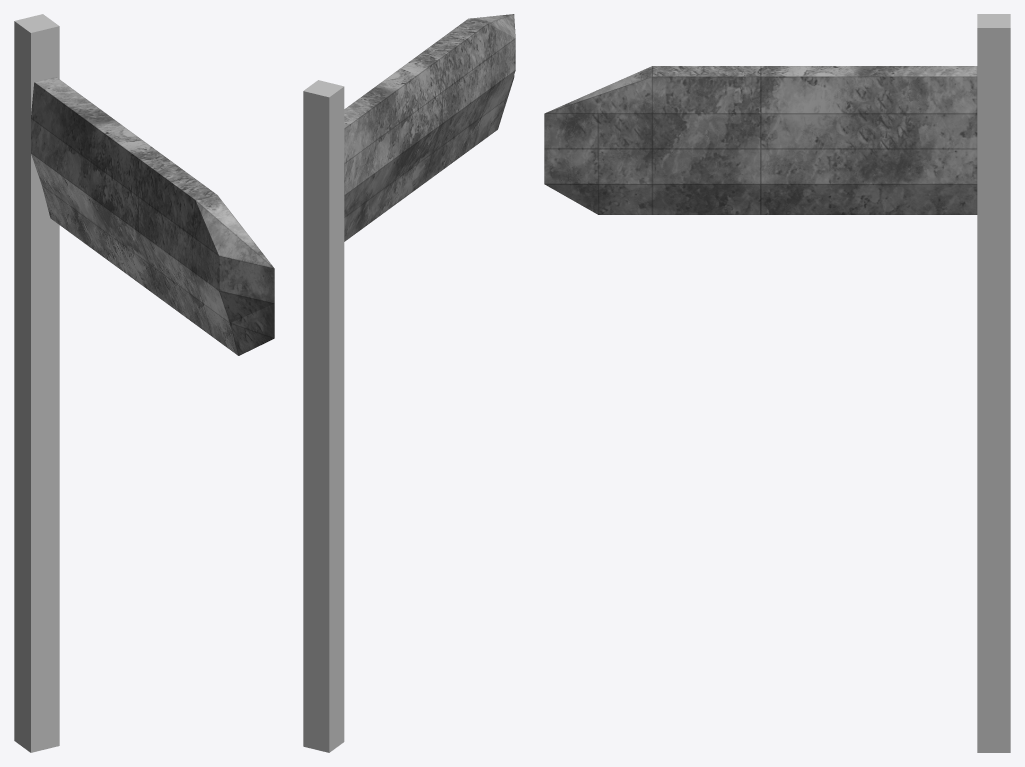
The model's file is hammer.obj.
3 views of the same model, side by side, from view 1: azimuth 30°, elevation 25°; view 2: azimuth 150°, elevation 25°; view 3: azimuth 270°, elevation 25° (orthographic). The views are drawn at different scales.
Visible parts, largest first — view 1: 立方体, Cube; view 2: Cube, 立方体; view 3: 立方体, Cube.
Boxes of the visible parts, left/top/right/bottom form: 立方体: left=31, top=77, right=274, bottom=355; Cube: left=14, top=14, right=59, bottom=752; Cube: left=303, top=80, right=344, bottom=752; 立方体: left=344, top=14, right=515, bottom=241; 立方体: left=544, top=66, right=977, bottom=214; Cube: left=977, top=14, right=1010, bottom=752.
Bounding box in the file's own units: 0.1273 × 3.06 × 1.78.
